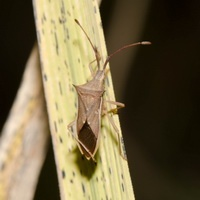insect: (68, 19, 150, 160)
